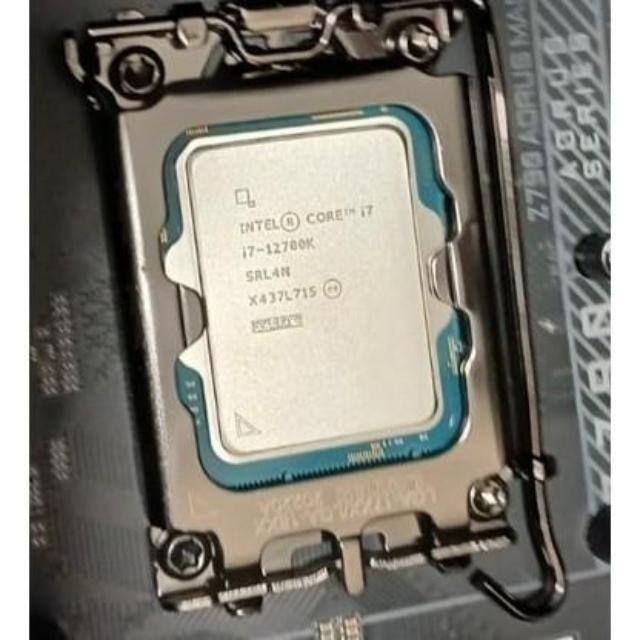CPU: (166, 116, 460, 470)
